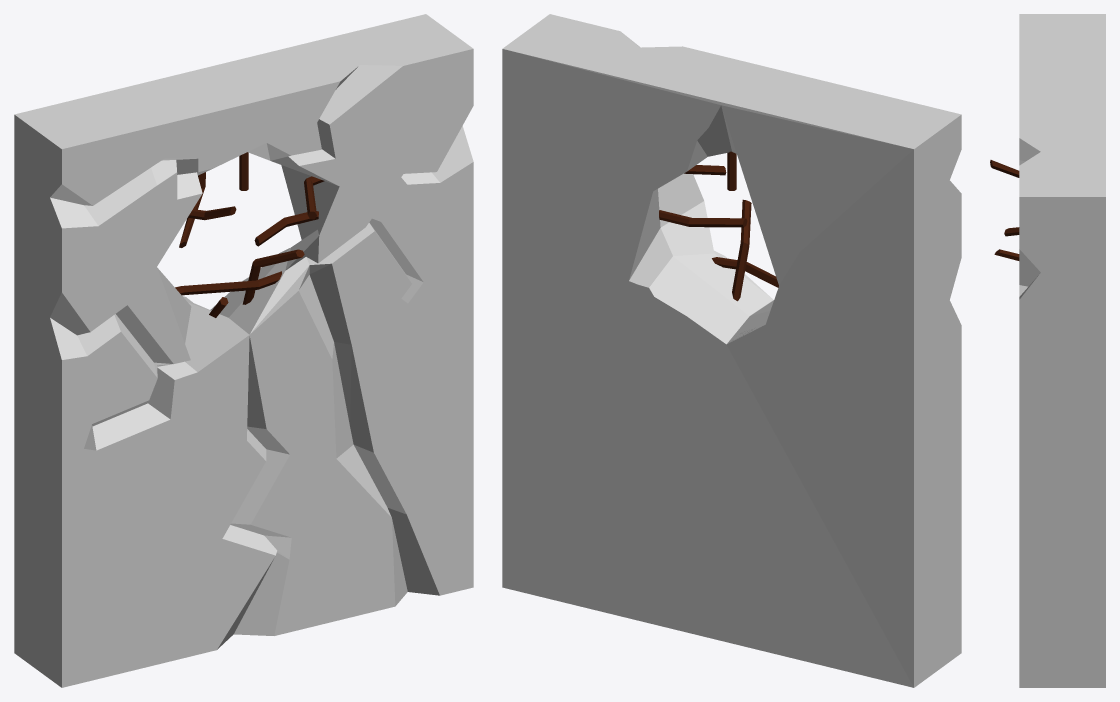
The model's file is wall4.fbx.
3 views of the same model, side by side, from view 1: azimuth 30°, elevation 25°; view 2: azimuth 150°, elevation 25°; view 3: azimuth 270°, elevation 25° (orthographic). The views are drawn at different scales.
Parts seen in each view (by area): view 1: Cube, Cylinder; view 2: Cube, Cylinder; view 3: Cube, Cylinder.
Boxes of the visible parts, left/top/right/bottom form: Cube: left=14, top=14, right=473, bottom=687; Cylinder: left=175, top=152, right=324, bottom=317; Cube: left=502, top=14, right=961, bottom=687; Cylinder: left=659, top=151, right=778, bottom=301; Cube: left=1019, top=14, right=1105, bottom=687; Cylinder: left=990, top=160, right=1019, bottom=260.
Size of the model in its own units: 200 by 250 by 53.51.
